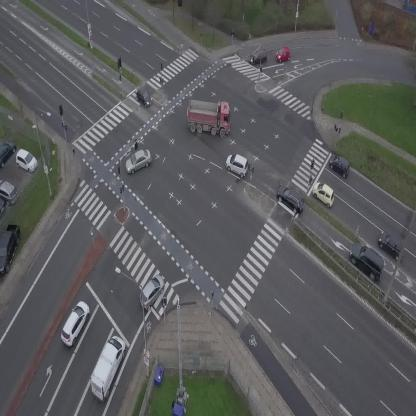car: (342, 238, 392, 284), (57, 299, 95, 348), (133, 271, 170, 312), (272, 180, 309, 217), (374, 228, 410, 263), (308, 178, 340, 209), (121, 147, 155, 175), (222, 150, 253, 179), (325, 151, 354, 178), (132, 88, 154, 109), (247, 49, 269, 66), (273, 46, 292, 63)
lorry: (84, 333, 130, 403), (185, 98, 233, 138)
